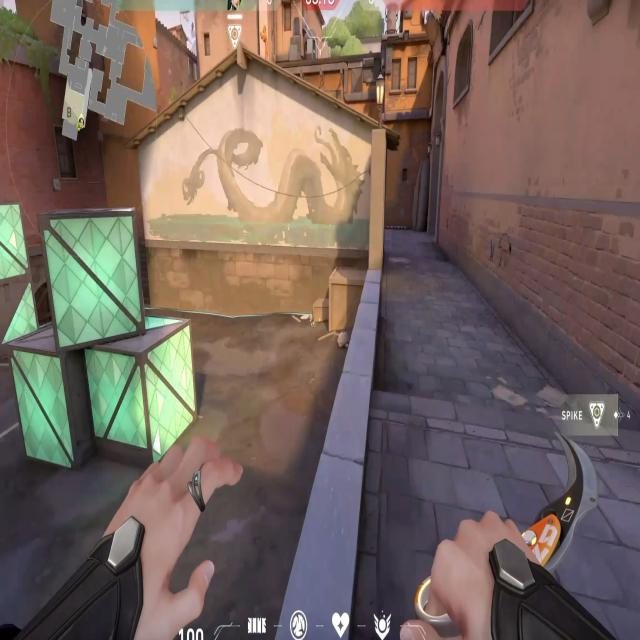B_Site_Box: (26, 211, 182, 471)
